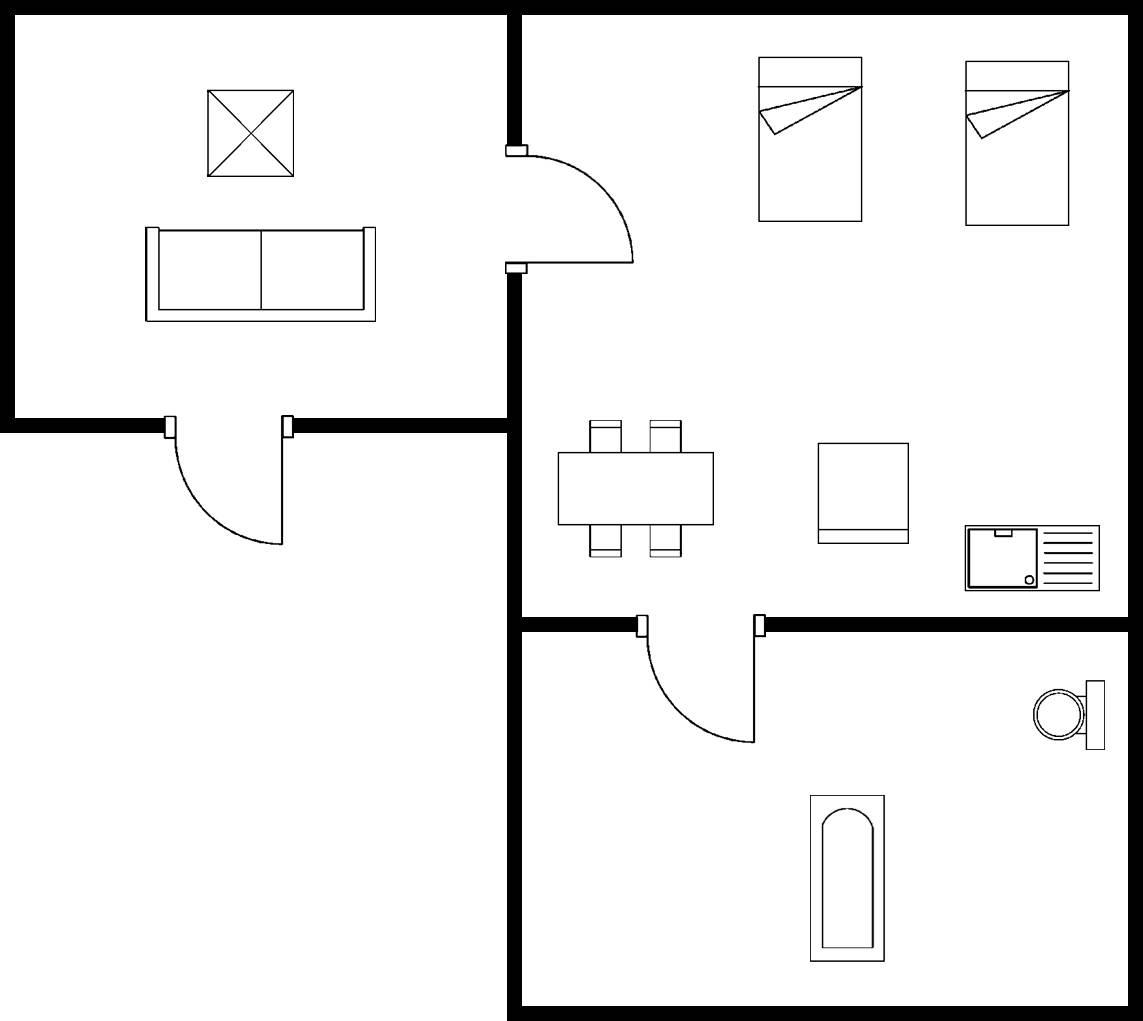bed: (959, 55, 1074, 230), (753, 50, 865, 227)
dining_table: (550, 413, 720, 561)
sink: (957, 519, 1104, 596)
sofa: (138, 222, 378, 324)
toilet: (1027, 676, 1109, 754)
tub: (802, 788, 888, 966)
